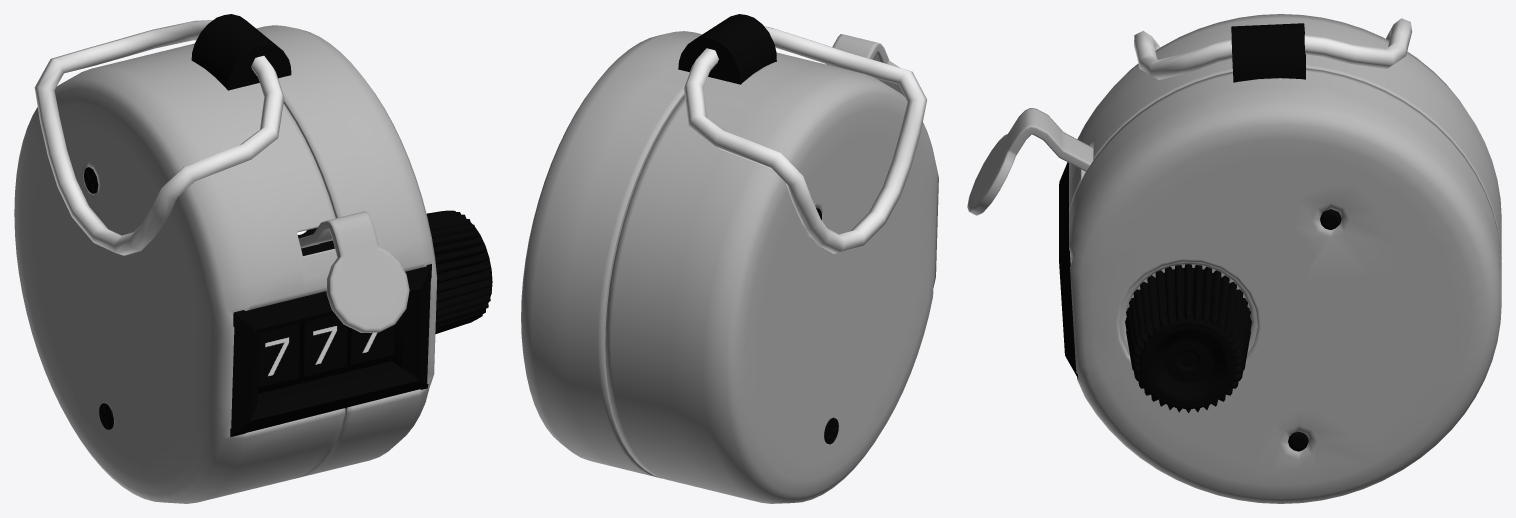
Rendered from tally.glb.
3 renders of one model, left to right at view 1: azimuth 30°, elevation 25°; view 2: azimuth 150°, elevation 25°; view 3: azimuth 270°, elevation 25°, orthographic.
Parts seen in each view (by area): view 1: body, numberframe, ring, button, digit_1, digit_2, digit_0; view 2: body, ring, button; view 3: body, ring, button, numberframe.
Boxes of the visible parts, <box> form: body: <box>14,14,492,503</box>; numberframe: <box>230,264,431,437</box>; ring: <box>34,20,284,255</box>; button: <box>298,211,409,332</box>; digit_1: <box>295,228,347,384</box>; digit_2: <box>258,323,299,393</box>; digit_0: <box>342,325,394,373</box>; body: <box>521,14,938,503</box>; ring: <box>683,26,926,253</box>; button: <box>826,34,904,96</box>; body: <box>1069,14,1501,503</box>; ring: <box>1134,18,1412,79</box>; button: <box>967,108,1093,215</box>; numberframe: <box>1059,162,1077,377</box>.
Bounding box in the file's own units: 0.0425 × 0.0545 × 0.0603.
Materials: 4 (1 with a texture image).
